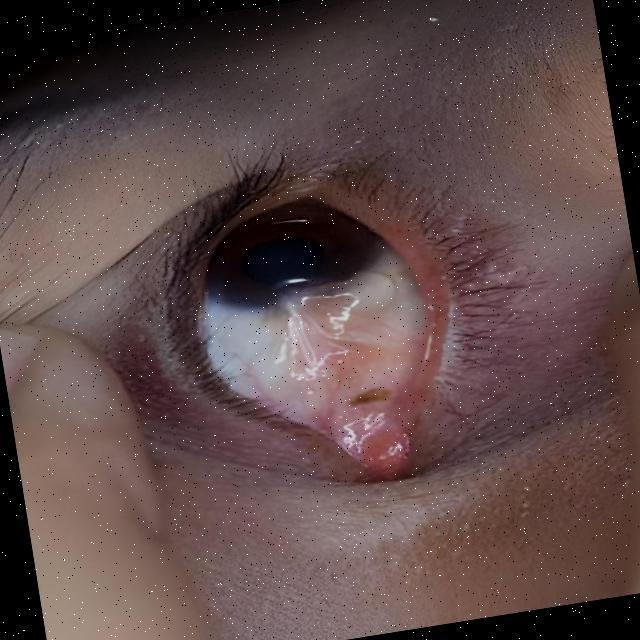Pterygium: (231, 251, 429, 453)
